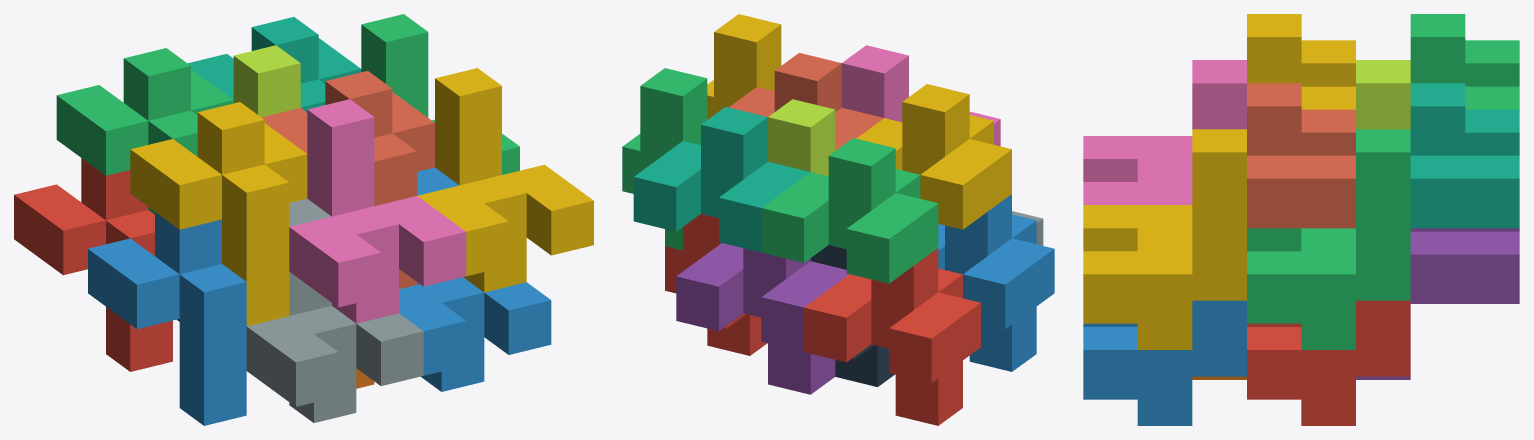
Rendered from tiling.obj.
3 renders of one model, left to right at view 1: azimuth 30°, elevation 25°; view 2: azimuth 150°, elevation 25°; view 3: azimuth 270°, elevation 25°, orthographic. The views are drawn at different scales.
Parts seen in each view (by area): view 1: copy_2_domain_4, copy_1_domain_4, copy_2_domain_8, copy_1_domain_2, copy_2_domain_2, copy_1_domain_1, copy_1_domain_3, copy_2_domain_6, copy_1_domain_8, copy_2_domain_7, copy_1_domain_7, copy_2_domain_3; view 2: copy_1_domain_1, copy_1_domain_3, copy_1_domain_7, copy_1_domain_5, copy_1_domain_2, copy_1_domain_4, copy_2_domain_7, copy_2_domain_8, copy_1_domain_8, copy_2_domain_4, copy_2_domain_3, copy_2_domain_5 (+1 smaller); view 3: copy_2_domain_8, copy_2_domain_7, copy_1_domain_7, copy_1_domain_8, copy_2_domain_6, copy_2_domain_5, copy_2_domain_4, copy_1_domain_5, copy_1_domain_3, copy_1_domain_4, copy_2_domain_3.
Boxes of the visible parts, x1=… form: copy_2_domain_4: x1=289, y1=99, x2=466, y2=323; copy_1_domain_4: x1=130, y1=102, x2=307, y2=326; copy_2_domain_8: x1=417, y1=68, x2=593, y2=292; copy_1_domain_2: x1=88, y1=212, x2=246, y2=425; copy_2_domain_2: x1=246, y1=198, x2=423, y2=422; copy_1_domain_1: x1=14, y1=158, x2=172, y2=371; copy_1_domain_3: x1=56, y1=48, x2=233, y2=214; copy_2_domain_6: x1=399, y1=167, x2=551, y2=391; copy_1_domain_8: x1=261, y1=71, x2=434, y2=289; copy_2_domain_7: x1=361, y1=14, x2=519, y2=174; copy_1_domain_7: x1=188, y1=17, x2=361, y2=111; copy_2_domain_3: x1=233, y1=45, x2=300, y2=117; copy_1_domain_1: x1=804, y1=248, x2=980, y2=425; copy_1_domain_3: x1=761, y1=138, x2=938, y2=283; copy_1_domain_7: x1=633, y1=106, x2=809, y2=252; copy_1_domain_5: x1=676, y1=243, x2=849, y2=394; copy_1_domain_2: x1=938, y1=194, x2=1054, y2=371; copy_1_domain_4: x1=856, y1=84, x2=1011, y2=229; copy_2_domain_7: x1=622, y1=68, x2=707, y2=250; copy_2_domain_8: x1=707, y1=14, x2=781, y2=119; copy_1_domain_8: x1=729, y1=53, x2=883, y2=150; copy_2_domain_4: x1=841, y1=45, x2=1000, y2=146; copy_2_domain_3: x1=768, y1=99, x2=835, y2=176; copy_2_domain_5: x1=665, y1=214, x2=767, y2=355; copy_2_domain_8: x1=1083, y1=129, x2=1246, y2=349; copy_2_domain_7: x1=1247, y1=129, x2=1410, y2=349; copy_1_domain_7: x1=1410, y1=83, x2=1519, y2=228; copy_1_domain_8: x1=1247, y1=83, x2=1355, y2=228; copy_2_domain_6: x1=1083, y1=300, x2=1246, y2=425; copy_2_domain_5: x1=1247, y1=300, x2=1410, y2=425; copy_2_domain_4: x1=1083, y1=60, x2=1246, y2=204; copy_1_domain_5: x1=1356, y1=228, x2=1519, y2=379; copy_1_domain_3: x1=1410, y1=14, x2=1519, y2=109; copy_1_domain_4: x1=1247, y1=14, x2=1355, y2=109; copy_2_domain_3: x1=1356, y1=60, x2=1410, y2=129.
Bounding box in the file's own units: 9 × 6 × 8.
